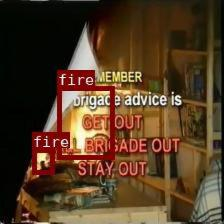fire: (56, 85, 114, 158), (31, 148, 53, 174)
